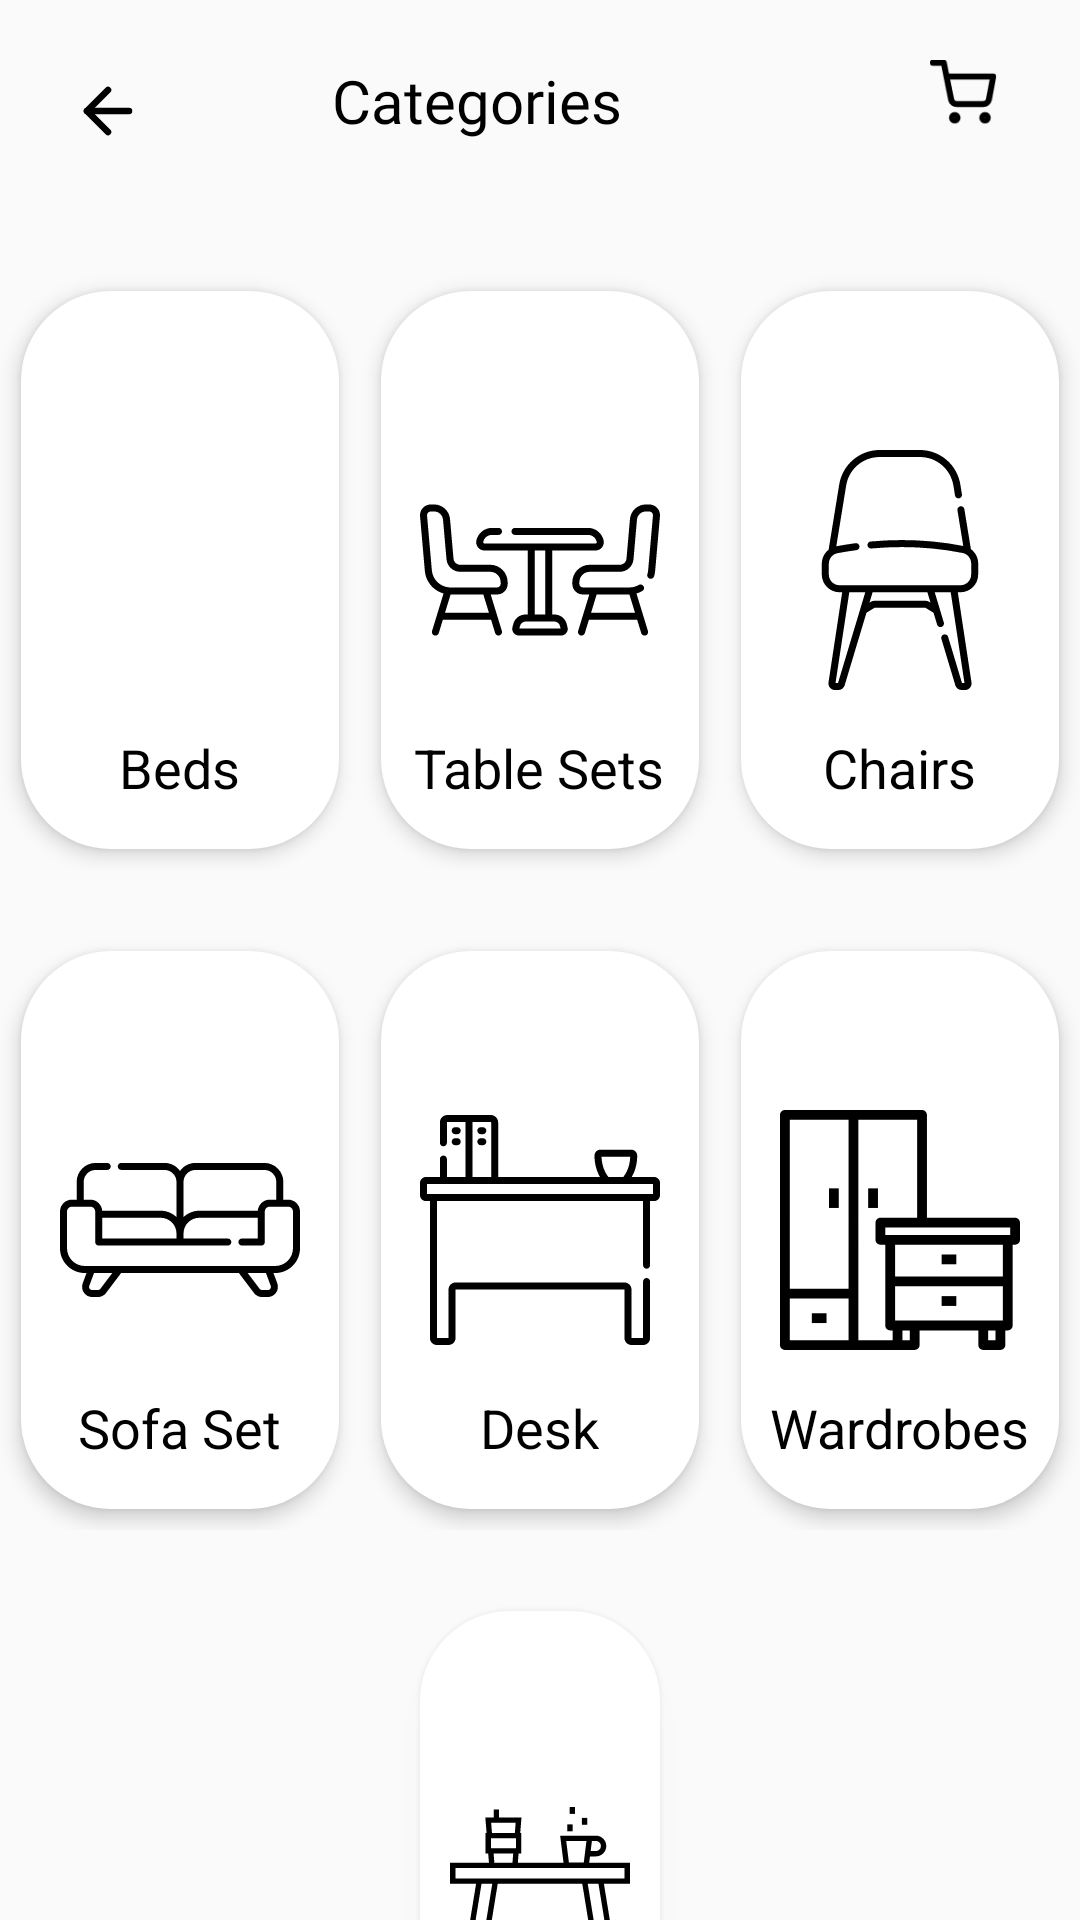

Where icons sit on this 1080w x 1920h app screen, as (x1, y1, x2, y2):
arrow left: (83, 86, 133, 136)
shopping cart: (930, 60, 996, 124)
